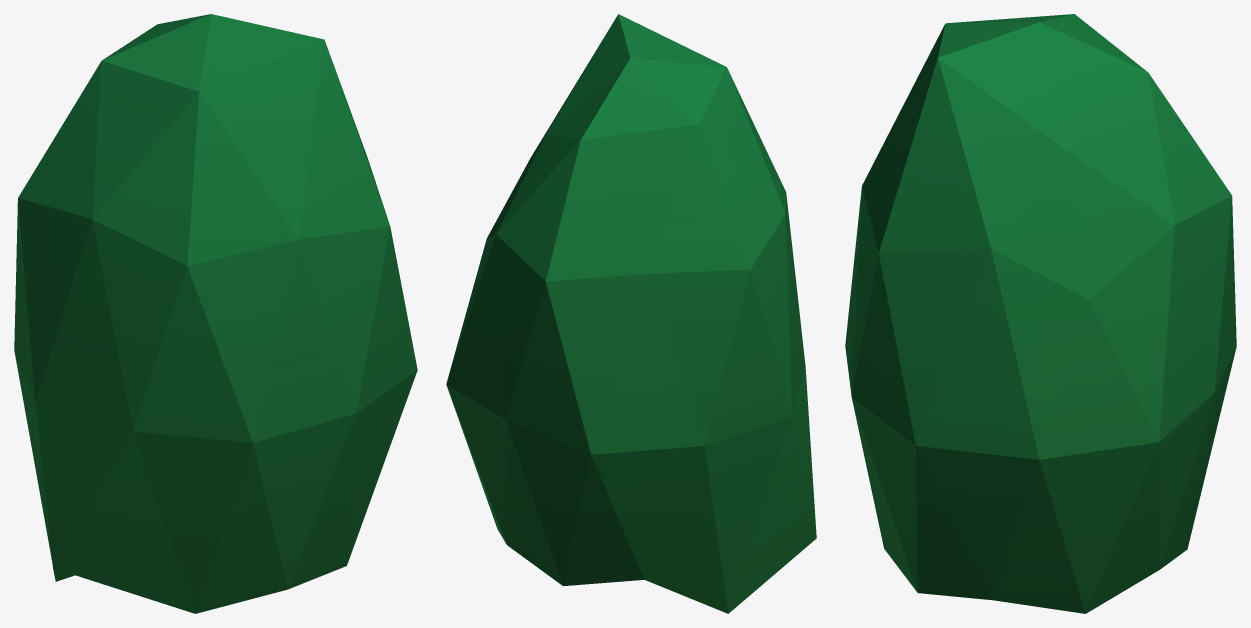
File: Bush_4_gradient_green_vc.fbx
3 renders of one model, left to right at view 1: azimuth 30°, elevation 25°; view 2: azimuth 150°, elevation 25°; view 3: azimuth 270°, elevation 25°, orthographic. The views are drawn at different scales.
Visible parts, largest first — view 1: Bush_4_gradient_green_vc; view 2: Bush_4_gradient_green_vc; view 3: Bush_4_gradient_green_vc.
Boxes of the visible parts, <box> form: Bush_4_gradient_green_vc: <box>14,14,417,613</box>; Bush_4_gradient_green_vc: <box>446,14,816,613</box>; Bush_4_gradient_green_vc: <box>845,14,1236,613</box>.
Bounding box in the file's own units: 39.09 × 58.1 × 36.72.
